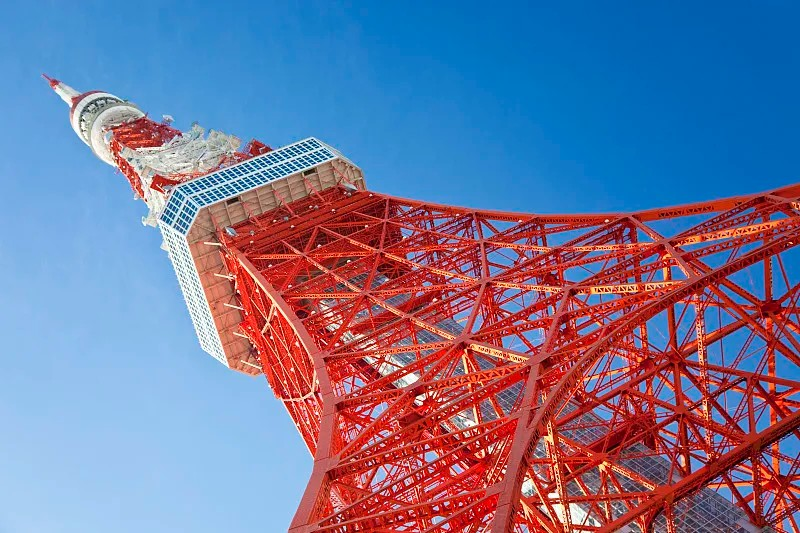Tokyo: (36, 73, 800, 533)
